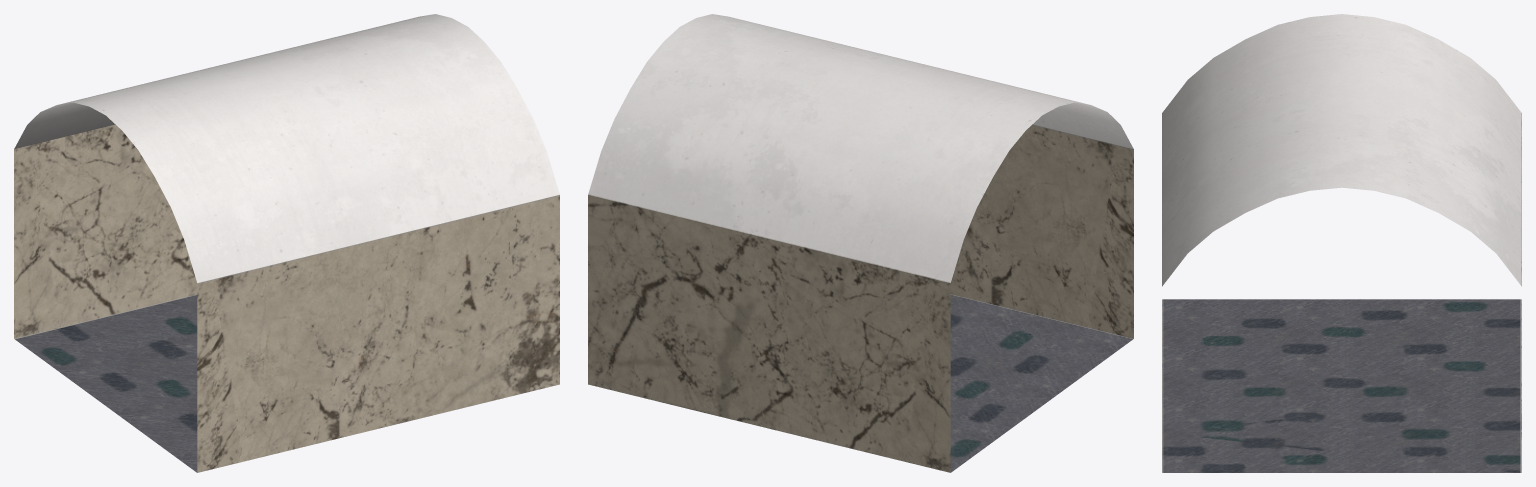
File: interchange walls straight.fbx
3 renders of one model, left to right at view 1: azimuth 30°, elevation 25°; view 2: azimuth 150°, elevation 25°; view 3: azimuth 270°, elevation 25°, orthographic.
Visible parts, largest first — view 1: walls straight_low; view 2: walls straight_low; view 3: walls straight_low.
Boxes of the visible parts, box(x1,y1,x2,y2) form: walls straight_low: box(14, 14, 559, 472); walls straight_low: box(588, 14, 1133, 472); walls straight_low: box(1162, 14, 1521, 472).
Size of the model in its own units: 700 by 800 by 613.
